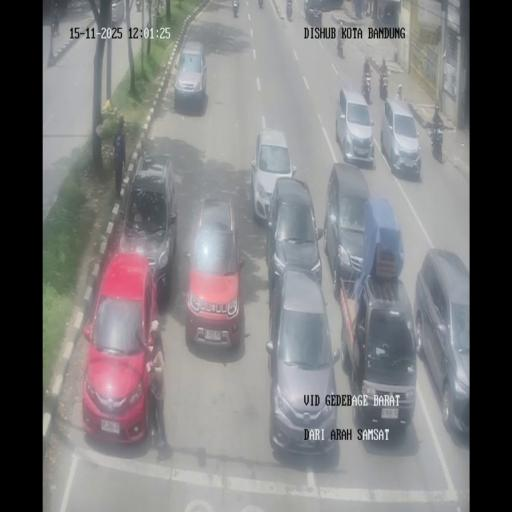car: (82, 252, 160, 444), (266, 270, 339, 457), (340, 268, 417, 436), (413, 250, 469, 439), (119, 154, 178, 300), (250, 128, 296, 226), (381, 96, 421, 178), (335, 86, 374, 166), (174, 39, 207, 113), (304, 0, 323, 25), (111, 0, 124, 24)
motorcycle: (428, 119, 445, 161), (360, 72, 372, 104), (378, 70, 389, 100), (51, 12, 60, 35), (336, 33, 344, 57), (286, 1, 293, 20), (362, 0, 369, 16), (146, 0, 153, 15), (233, 0, 239, 17), (135, 0, 141, 11), (258, 0, 263, 9)
